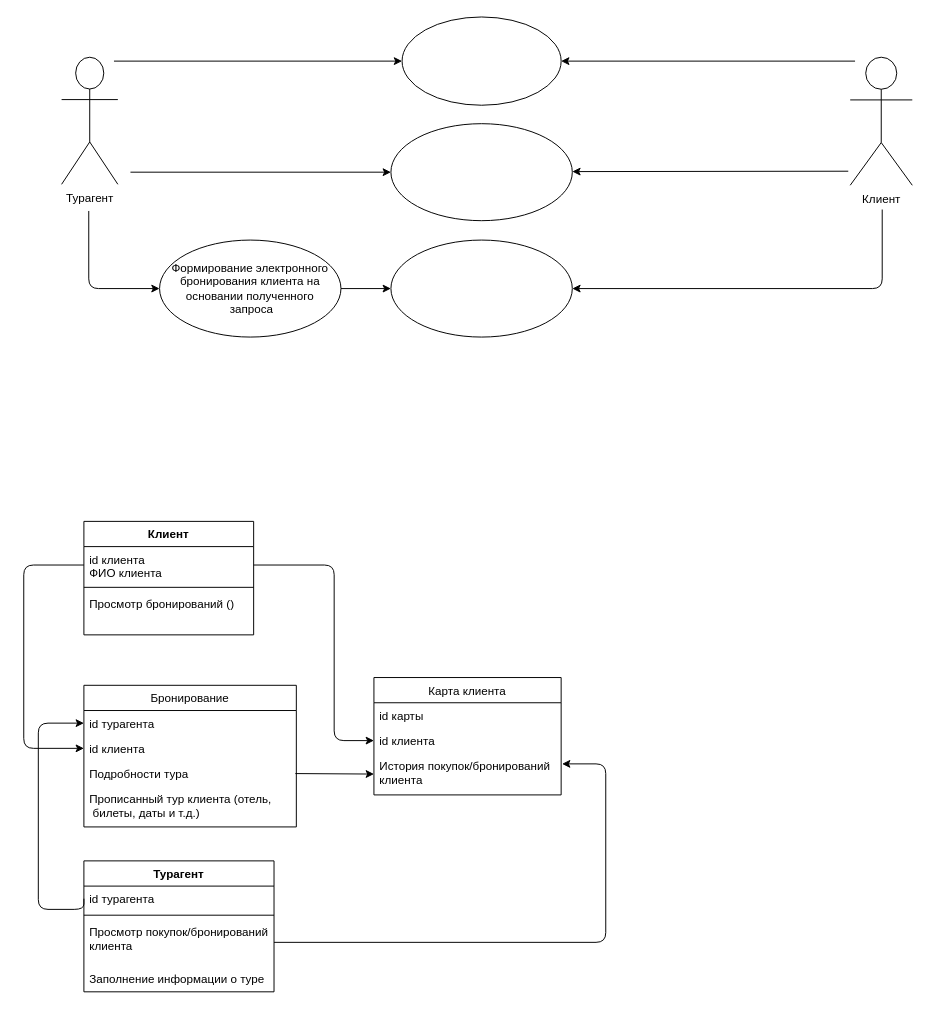
Image size: 929x1012. Some labels were removed from this diagram. The shapes that lost their labels are listed below. From the top down, each one's centre as x and y in pixels, then its label:
At (x=481, y=60): "Формирование электронной карты клиента".
At (x=481, y=172): "Список доступных туров".
At (x=481, y=288): "Сформированный тур".
